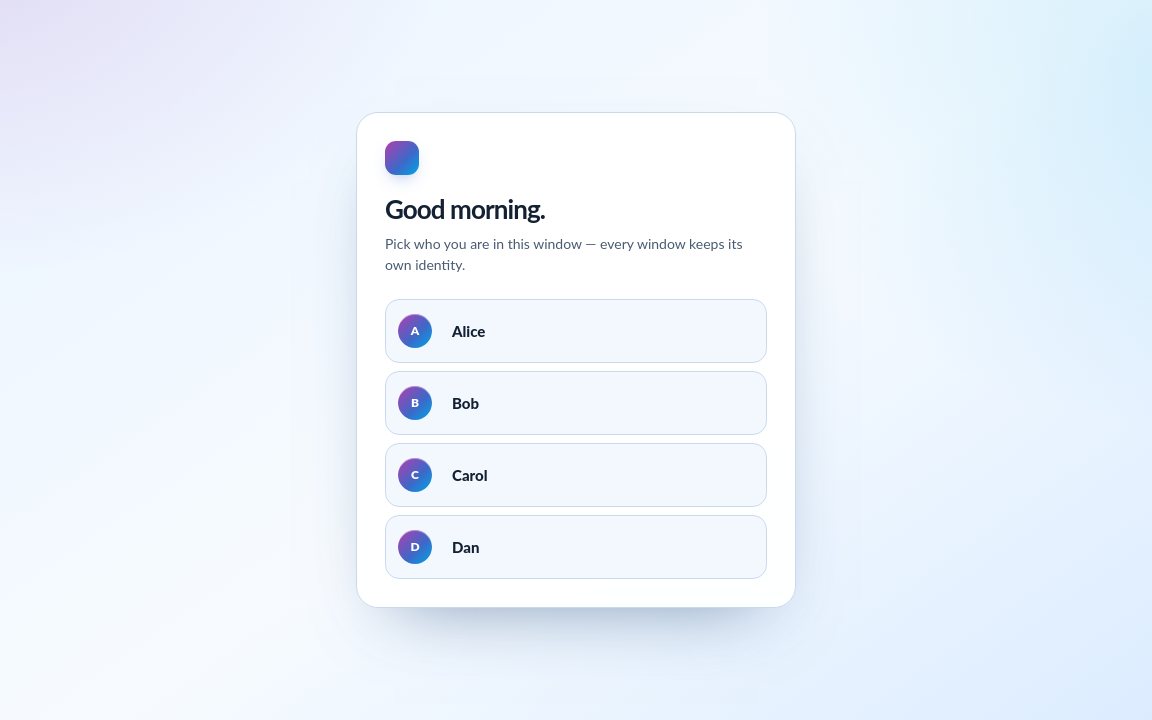
Test case: conversation creation dialog — success (task 3.7) › closes, adds and selects in the rail, focuses the composer, and announces
Click the button "A Alice".
click(415, 331)  # box [385, 299, 767, 363]
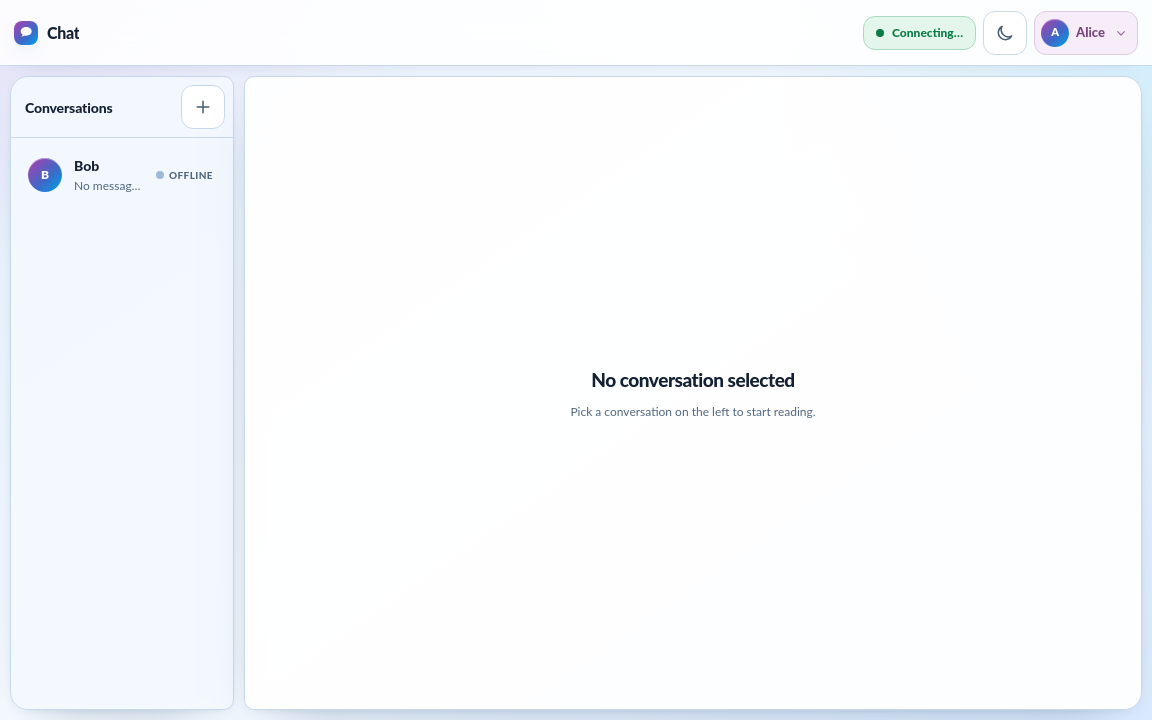
Click the button "B Bob No messages yet Offline".
click(122, 175)  # box [19, 146, 225, 204]
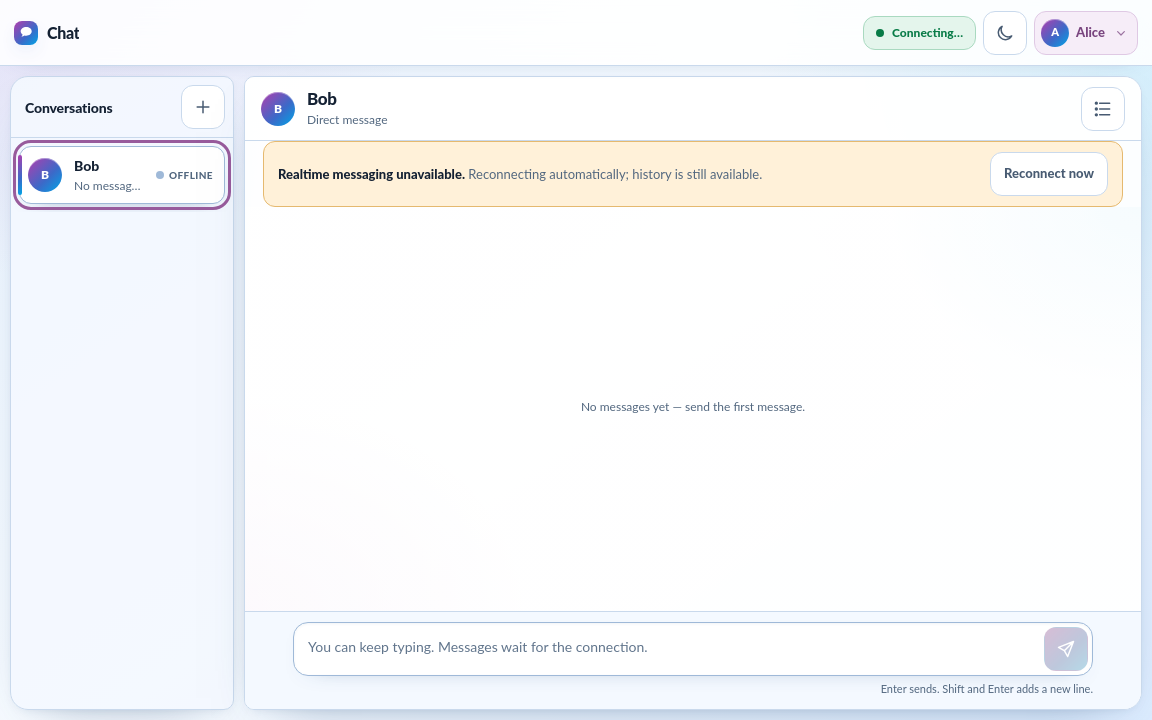
Click the button named "New conversation".
click(203, 107)  # box [181, 85, 225, 129]
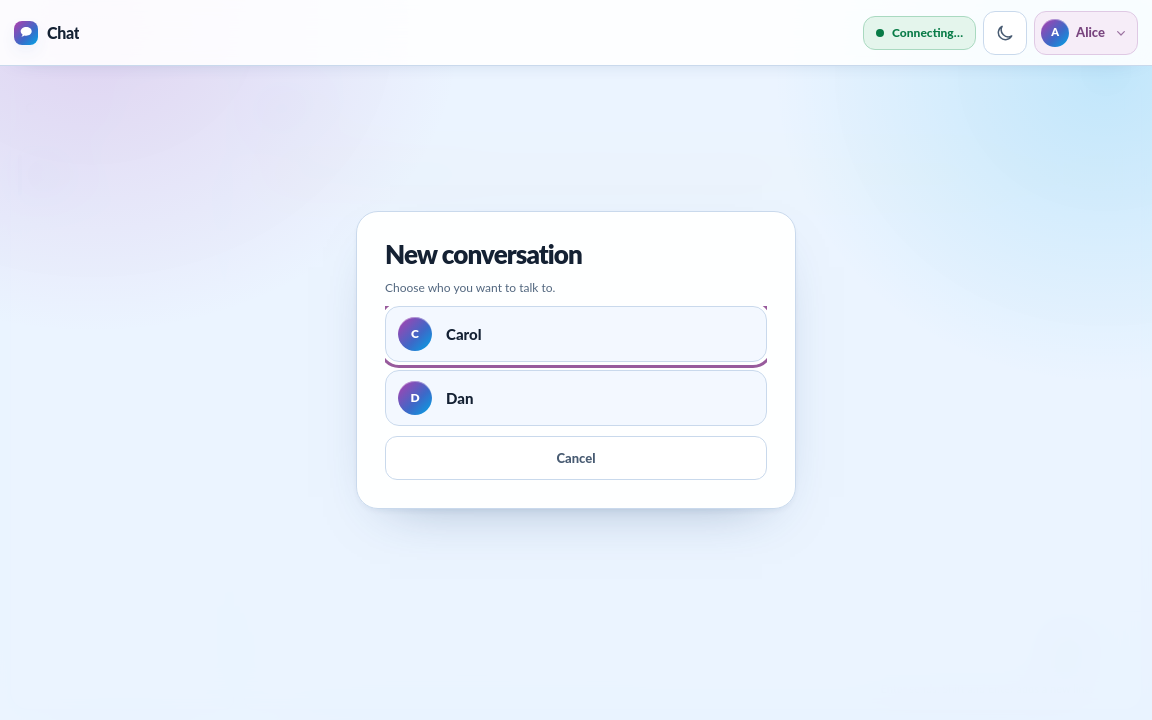
Click the button "C Carol".
click(415, 334)  # box [385, 306, 767, 362]
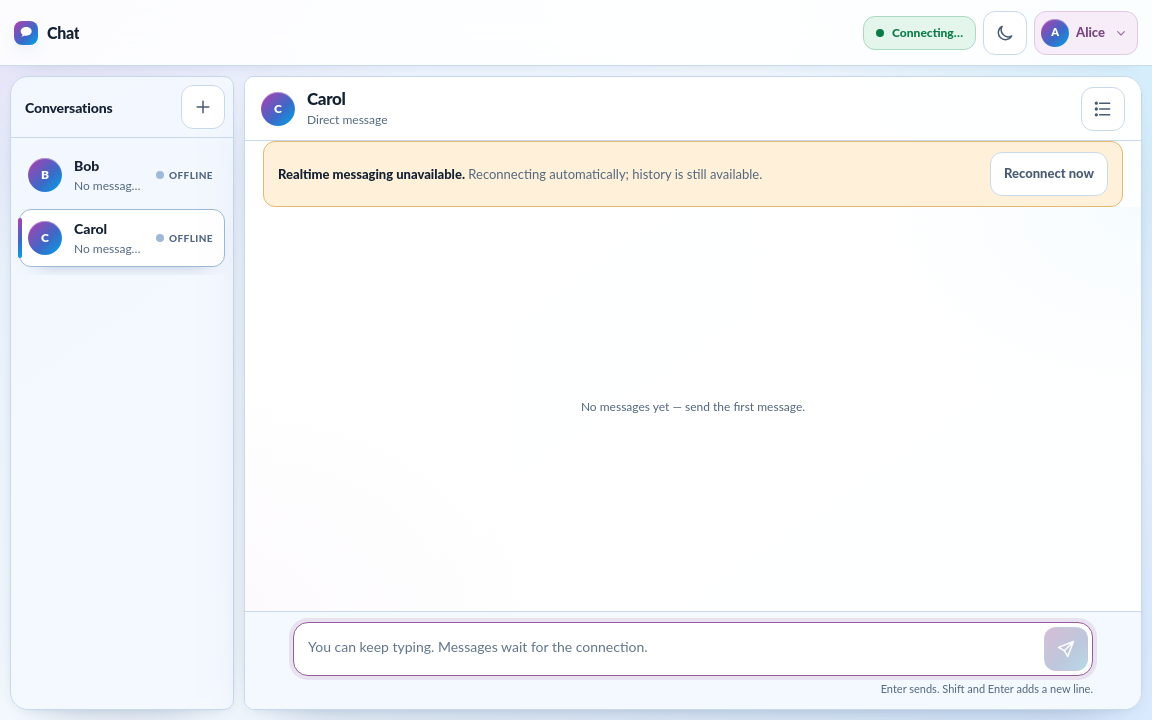
Now the dialog is gone
